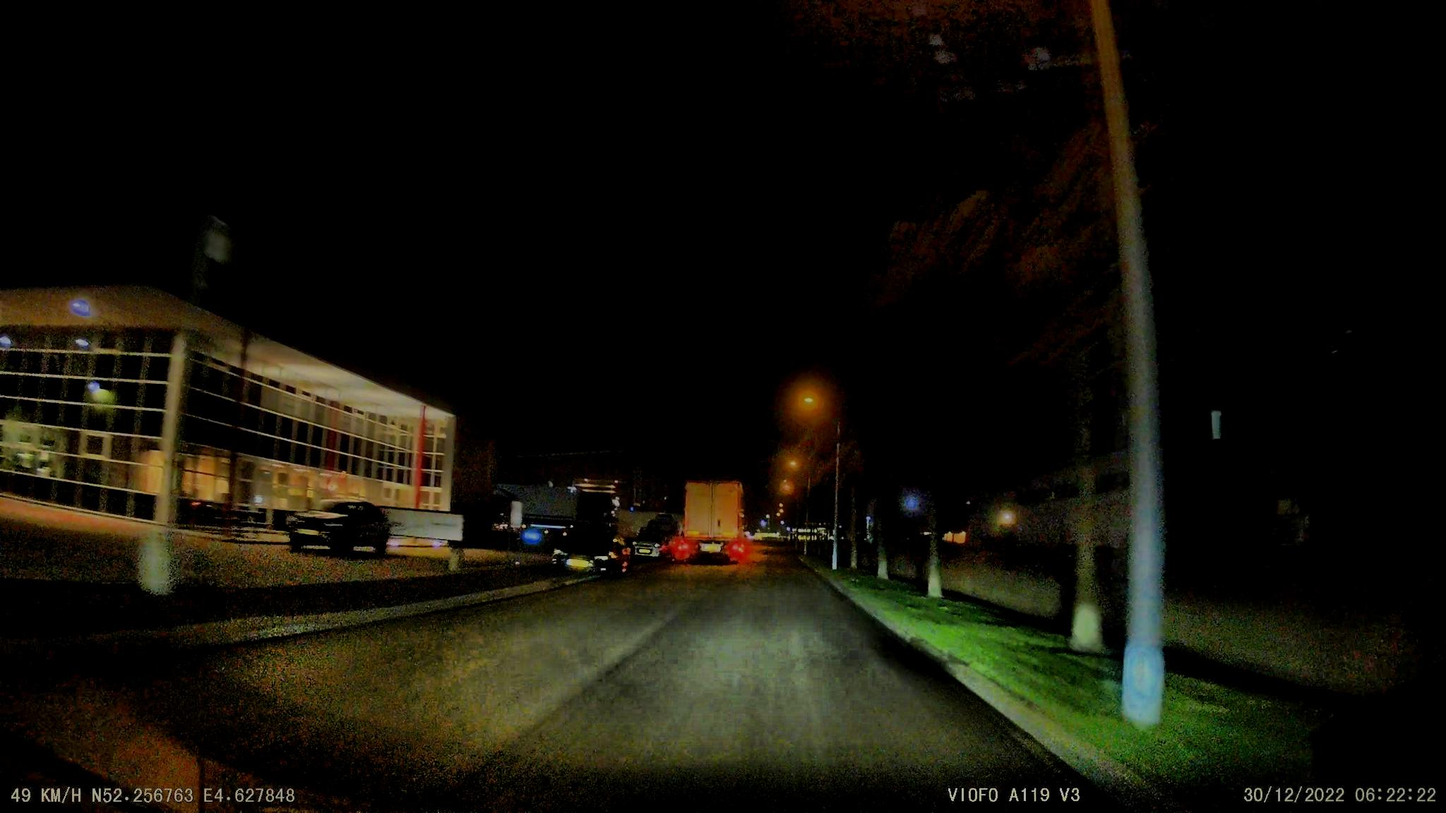Roads: (0, 554, 1138, 813)
